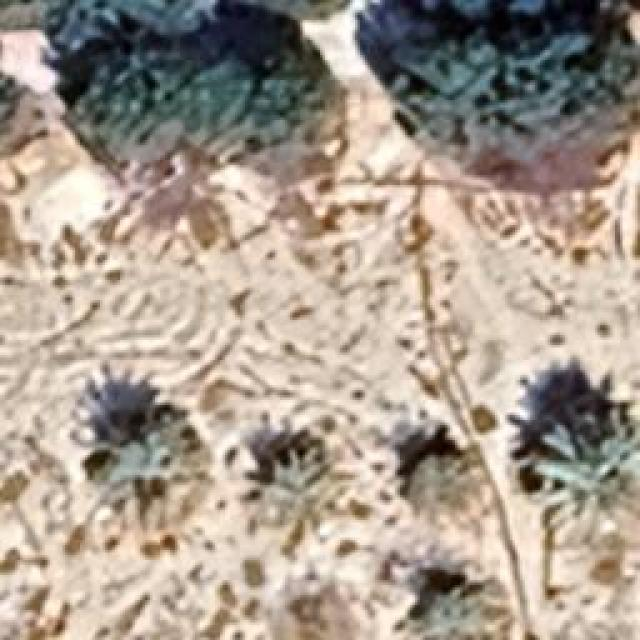PalmTree: (95, 15, 149, 462), (525, 400, 640, 508), (252, 445, 352, 523), (410, 575, 505, 640), (404, 444, 488, 516), (0, 66, 29, 163), (1, 65, 22, 164)
